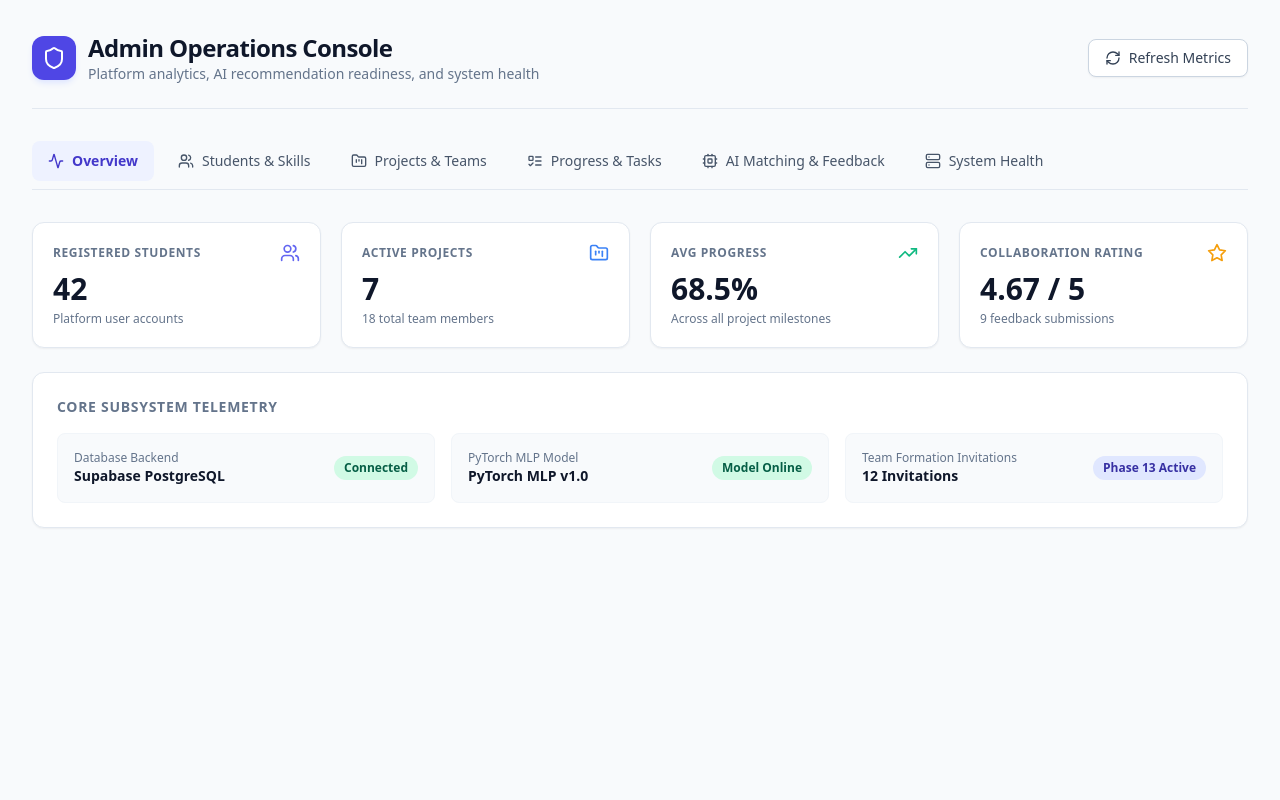
Test: Phase 15: Admin Dashboard Frontend Tests › Admin Dashboard Data Rendering › switches to Students & Skills tab and displays statistics
Expected: the text "Overview" is shown, [72,151,138,171]
Note: Click on Students & Skills tab
Click the button "Students & Skills". click: {"x": 244, "y": 161}
box: [162,141,326,181]
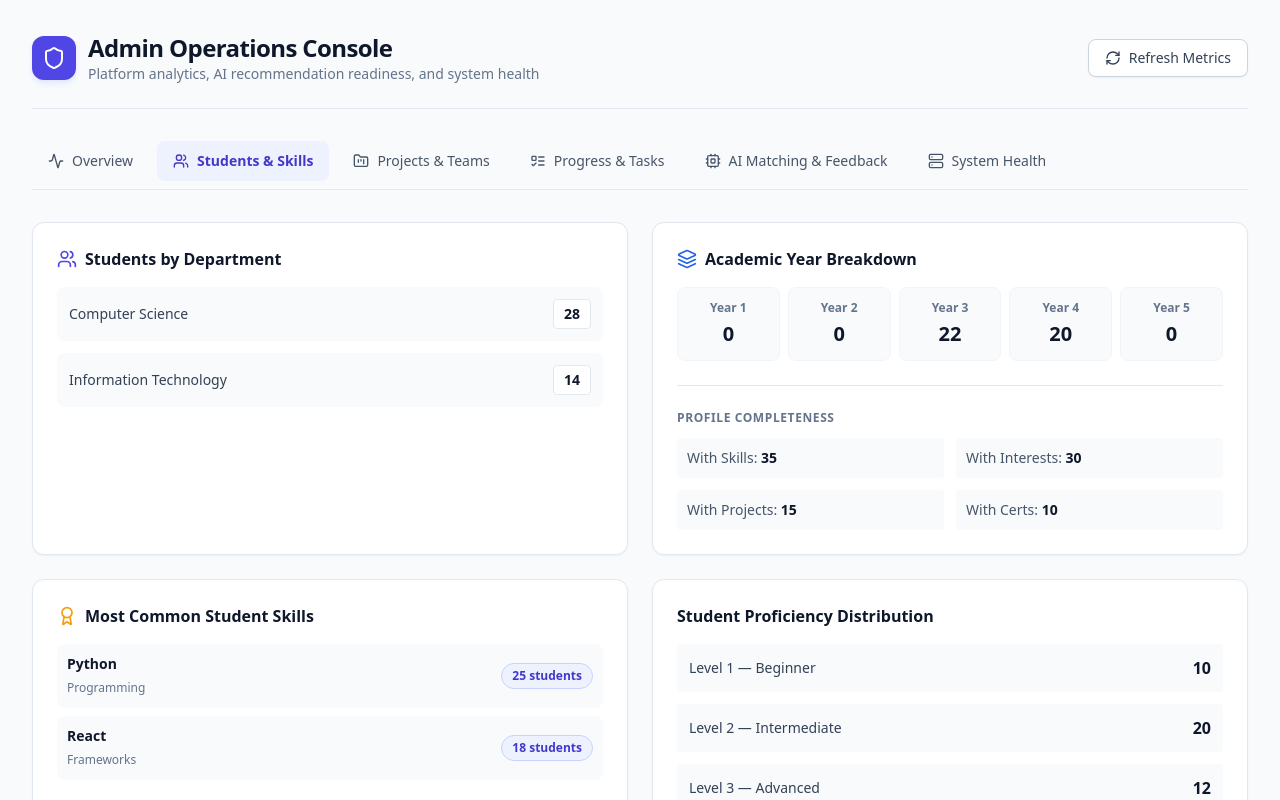
Now the text "Students by Department" is shown, box [85,247,281,271]
Now the text "Computer Science" is shown, box [69,304,188,324]
Now the text "Information Technology" is shown, box [69,370,227,390]
